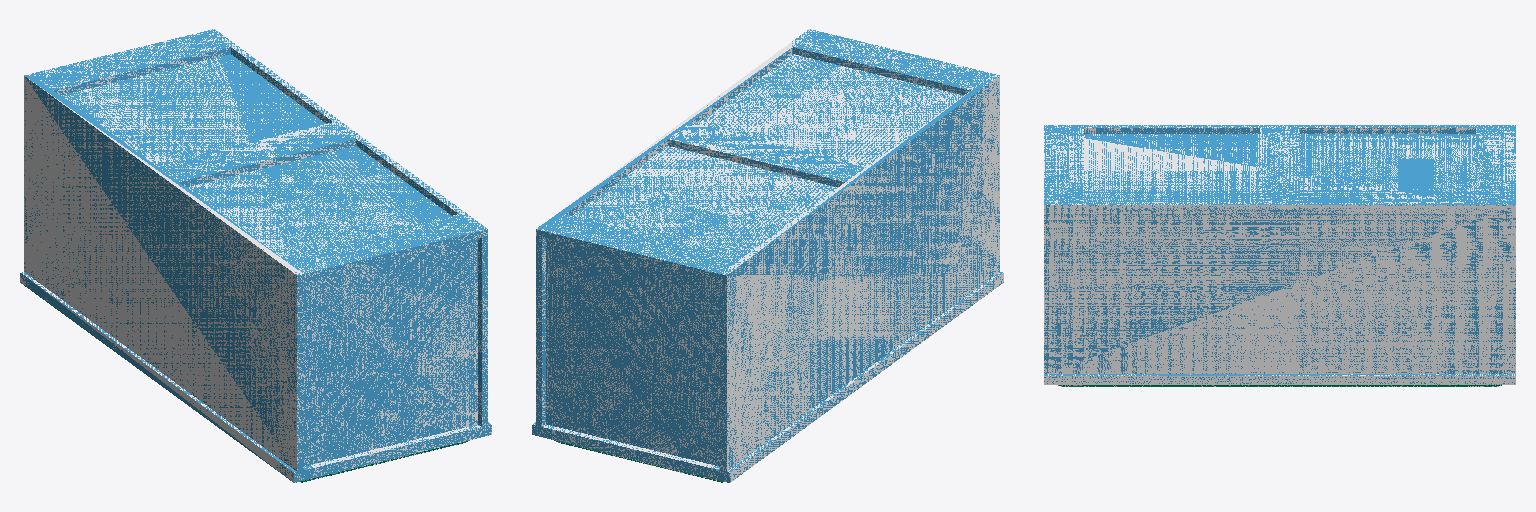
The robot description file, URDF, robot "right-pull-door":
<?xml version="1.0" ?>
<robot name="right-pull-door">
	<link name="base"/>
	<link name="link_0">
		<visual name="out-frame">
			<origin xyz="0 0 0"/>
			<geometry>
				<mesh filename="texture_dae/frame.dae" scale="0.8 0.8 0.8"/>
			</geometry>
		</visual>
		<collision>
			<origin xyz="0 0 0"/>
			<geometry>
				<mesh filename="texture_dae/frame.dae" scale="0.8 0.8 0.8"/>
			</geometry>
		</collision>
	</link>
	<joint name="joint_0" type="fixed">
		<origin rpy="1.570796326794897 0 -1.570796326794897" xyz="0 0 0"/>
		<child link="link_0"/>
		<parent link="base"/>
	</joint>
	<link name="link_1">
		<visual name="surf-board">
			<origin xyz="1.2991873741149904 -0.24684512019547472 0"/>
			<geometry>
				<mesh filename="texture_dae/board.dae" scale="0.8 0.8 0.8"/>
			</geometry>
		</visual>
		<collision>
			<origin xyz="1.2991873741149904 -0.24684512019547472 0"/>
			<geometry>
				<mesh filename="texture_dae/board.dae" scale="0.8 0.8 0.8"/>
			</geometry>
		</collision>
	</link>
	<joint name="joint_1" type="revolute">
		<origin xyz="-1.2991873741149904 0.24684512019547472 0"/>
		<axis xyz="0 -1 0"/>
		<child link="link_1"/>
		<parent link="link_0"/>
		<limit lower="0" upper="1.5079644737231006"/>
	</joint>
	<link name="link_2">
		<visual name="handle">
			<origin xyz="0 0 0"/>
			<geometry>
				<mesh filename="texture_dae/9962014.dae" scale="1.0253492902151484 1.0253492902151484 1.0253492902151484"/>
			</geometry>
		</visual>
		<collision>
			<origin xyz="0 0 0"/>
			<geometry>
				<mesh filename="texture_dae/9962014.dae" scale="1.0253492902151484 1.0253492902151484 1.0253492902151484"/>
			</geometry>
		</collision>
	</link>
	<joint name="joint_2" type="revolute">
		<origin xyz="1.2991873741149904 -0.24684512019547472 0.015103076422149279"/>
		<child link="link_2"/>
		<parent link="link_1"/>
		<axis xyz="0 0 1"/>
		<limit lower="0" upper="1.5079644737231006"/>
	</joint>
</robot>

--- Render facts (derived) ---
3 views of the same robot in one strip: view 1: azimuth 30°, elevation 25°; view 2: azimuth 150°, elevation 25°; view 3: azimuth 270°, elevation 25° (orthographic).
Model right-pull-door with 4 links and 3 joints (2 revolute, 1 fixed), rooted at base, posed all joints at 0.
Visible links, largest first — view 1: link_0; view 2: link_0; view 3: link_0, link_1.
Link boxes in pixels (x1,y1,x2,y2): link_0: [20, 29, 491, 482]; link_0: [532, 29, 1003, 482]; link_0: [1044, 125, 1515, 384]; link_1: [1058, 385, 1501, 386].
Size in the robot's own frame: 0.5936 by 1.42 by 0.6251 metres.
2 mesh visuals loaded from 3 distinct referenced files (2 Collada DAE); not drawn: 1 (reference not matched to a file when rendering).
